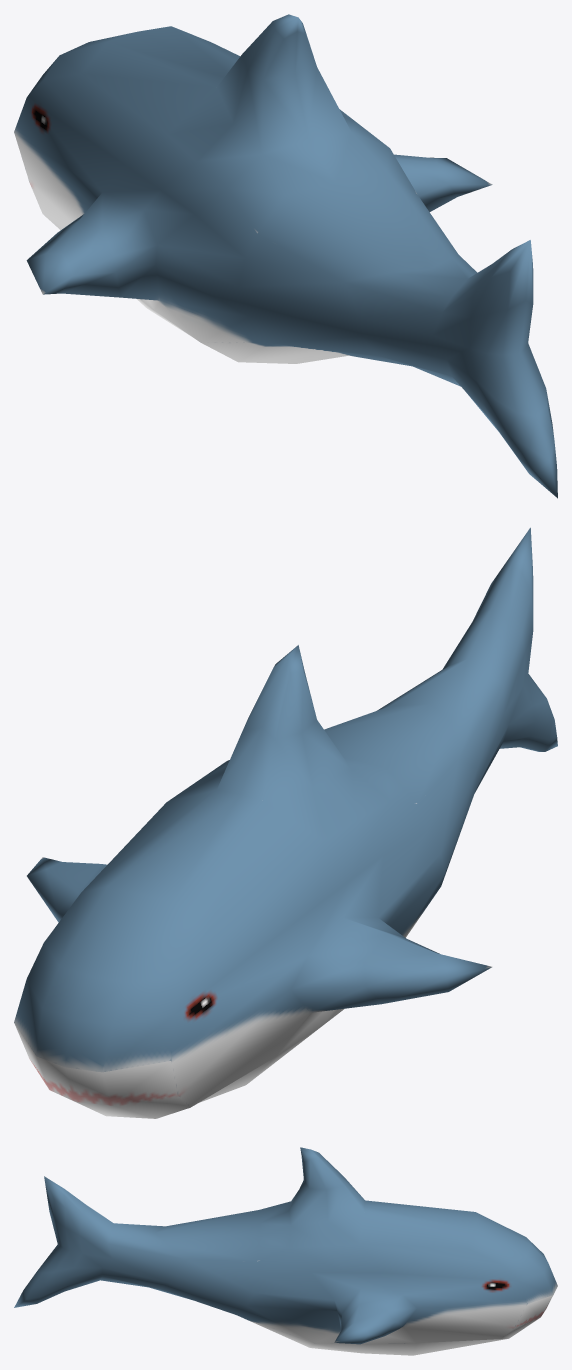
Rendered from Shark.obj.
The picture shows the model from 3 angles, top to bottom: view 1: azimuth 30°, elevation 25°; view 2: azimuth 150°, elevation 25°; view 3: azimuth 270°, elevation 25°; orthographic projection. The views are drawn at different scales.
Visible parts, largest first — view 1: Cube; view 2: Cube; view 3: Cube.
Boxes of the visible parts, x1,y1,x2,y2 form: Cube: (14, 14, 557, 498); Cube: (14, 527, 557, 1118); Cube: (14, 1147, 557, 1355).
Bounding box in the file's own units: 0.0446 × 0.0346 × 0.0846.
